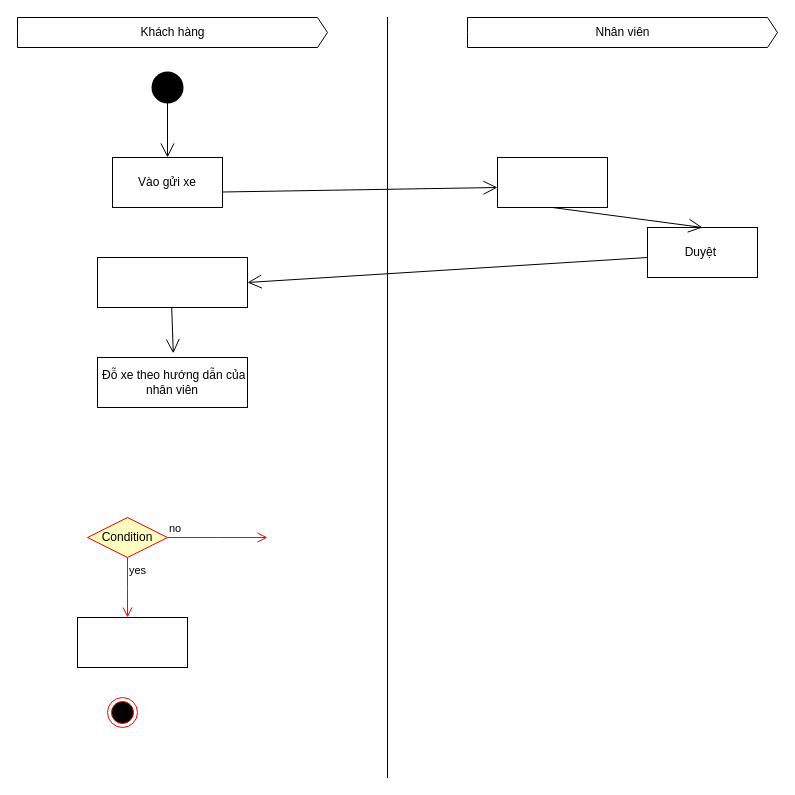
Some shapes in this 795 by 795 pixel diagram are drawn without their labels. Each missing label, with the centre of its shape:
Lấy vé gửi xe: the point at 172,282
Object: the point at 132,642
Đưa vé gửi xé: the point at 552,182
